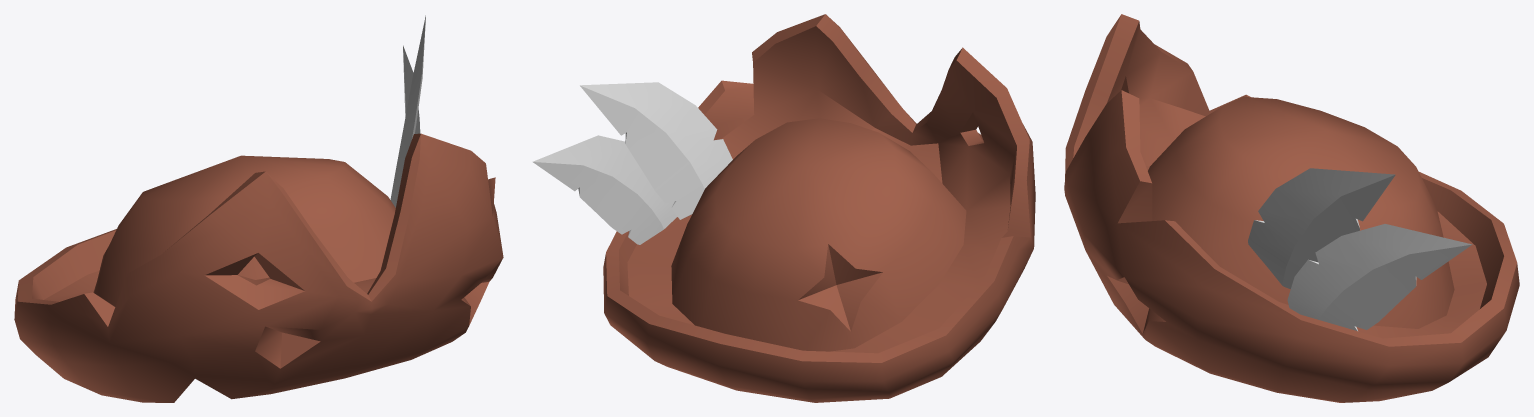
Rendered from pirateHat.gltf.glb.
3 views of the same model, side by side, from view 1: azimuth 30°, elevation 25°; view 2: azimuth 150°, elevation 25°; view 3: azimuth 270°, elevation 25° (orthographic). The views are drawn at different scales.
Parts seen in each view (by area): view 1: pirateHat; view 2: pirateHat; view 3: pirateHat.
Part boxes in pixels (x1,y1,x2,y2): pirateHat: (14,15,503,402); pirateHat: (532,14,1035,402); pirateHat: (1064,14,1519,402).
Bounding box in the file's own units: 1.62 × 1.03 × 1.44.
